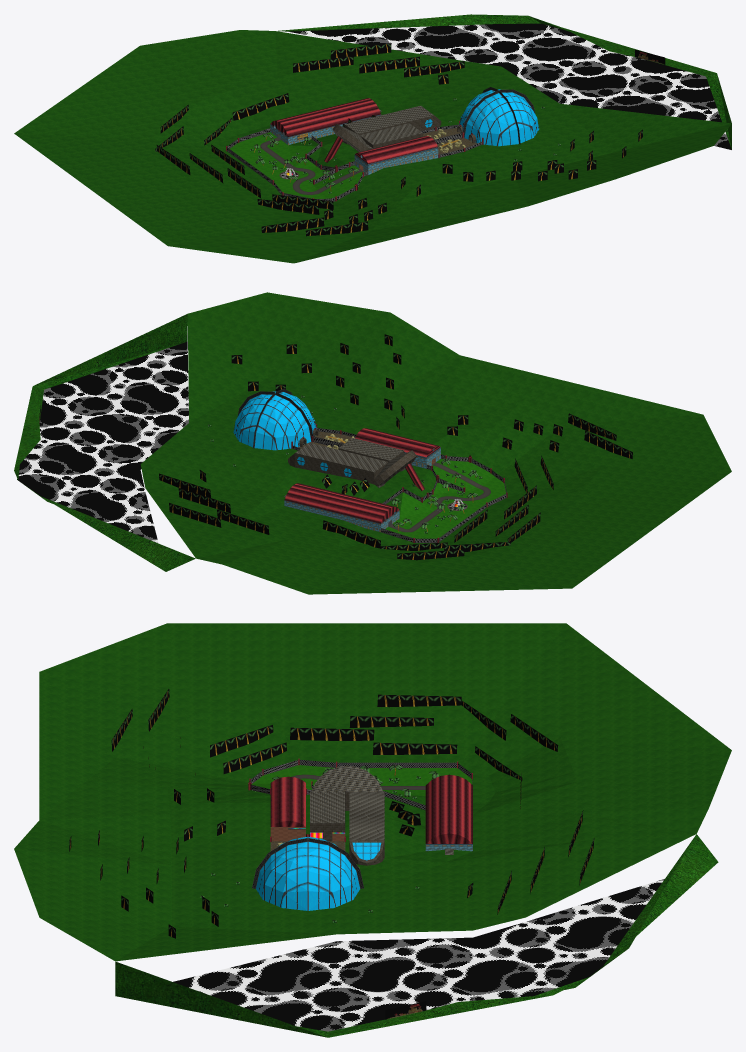
The picture shows the model from 3 angles, top to bottom: view 1: azimuth 30°, elevation 25°; view 2: azimuth 150°, elevation 25°; view 3: azimuth 270°, elevation 25°; orthographic projection. The views are drawn at different scales.
Parts seen in each view (by area): view 1: TrFa1_SKP__FF_grass, TrFa1_SKP__10_1_water, TrFa1_SKP__FF_palm2D, TrFa1_SKP__c_0_glass_NC, TrFa1_SKP__FF_metal_NC_M, TrFa1_SKP__3_4_grass, TrFa1_SKP__FF_cielingStone_NC, TrFa1_SKP__c_2_metalFence_NC, TrFa1_SKP__c_2_ironWall_NC, TrFa1_SKP__c_1_wallStone_NC, TrFa1_SKP__0_0_road, TrFa1_SKP__FF_support (+2 smaller); view 2: TrFa1_SKP__FF_grass, TrFa1_SKP__10_1_water, TrFa1_SKP__FF_palm2D, TrFa1_SKP__3_4_grass, TrFa1_SKP__c_0_glass_NC, TrFa1_SKP__FF_metal_NC_M, TrFa1_SKP__FF_cielingStone_NC, TrFa1_SKP__c_2_metalFence_NC, TrFa1_SKP__c_1_wallStone_NC, TrFa1_SKP__c_2_ironWall_NC, TrFa1_SKP__0_0_road, TrFa1_SKP__FF_palmeTop_NC_M (+1 smaller); view 3: TrFa1_SKP__FF_grass, TrFa1_SKP__10_1_water, TrFa1_SKP__FF_palm2D, TrFa1_SKP__c_0_glass_NC, TrFa1_SKP__FF_metal_NC_M, TrFa1_SKP__FF_cielingStone_NC, TrFa1_SKP__3_4_grass, TrFa1_SKP__c_2_metalFence_NC, TrFa1_SKP__c_1_wallStone_NC, TrFa1_SKP__FF_support.
Boxes of the visible parts, x1,y1,x2,y2 form: TrFa1_SKP__FF_grass: (14, 14, 731, 263); TrFa1_SKP__10_1_water: (281, 23, 731, 178); TrFa1_SKP__FF_palm2D: (155, 43, 642, 236); TrFa1_SKP__c_0_glass_NC: (424, 89, 539, 146); TrFa1_SKP__FF_metal_NC_M: (270, 98, 472, 185); TrFa1_SKP__3_4_grass: (230, 132, 363, 198); TrFa1_SKP__FF_cielingStone_NC: (337, 105, 433, 148); TrFa1_SKP__c_2_metalFence_NC: (227, 124, 482, 201); TrFa1_SKP__c_2_ironWall_NC: (270, 114, 438, 174); TrFa1_SKP__c_1_wallStone_NC: (332, 115, 441, 151); TrFa1_SKP__0_0_road: (260, 137, 362, 194); TrFa1_SKP__FF_support: (462, 87, 535, 144); TrFa1_SKP__FF_grass: (14, 292, 731, 594); TrFa1_SKP__10_1_water: (18, 341, 465, 543); TrFa1_SKP__FF_palm2D: (159, 334, 632, 560); TrFa1_SKP__3_4_grass: (385, 458, 505, 538); TrFa1_SKP__c_0_glass_NC: (233, 391, 351, 476); TrFa1_SKP__FF_metal_NC_M: (284, 428, 470, 523); TrFa1_SKP__FF_cielingStone_NC: (284, 438, 411, 497); TrFa1_SKP__c_2_metalFence_NC: (292, 428, 506, 542); TrFa1_SKP__c_1_wallStone_NC: (288, 448, 416, 486); TrFa1_SKP__c_2_ironWall_NC: (284, 447, 440, 532); TrFa1_SKP__0_0_road: (389, 462, 490, 532); TrFa1_SKP__FF_palmeTop_NC_M: (391, 458, 478, 528); TrFa1_SKP__FF_grass: (14, 623, 731, 1037); TrFa1_SKP__10_1_water: (173, 879, 664, 1031); TrFa1_SKP__FF_palm2D: (69, 689, 594, 938); TrFa1_SKP__c_0_glass_NC: (256, 836, 381, 910); TrFa1_SKP__FF_metal_NC_M: (248, 774, 472, 843); TrFa1_SKP__FF_cielingStone_NC: (310, 765, 453, 854); TrFa1_SKP__3_4_grass: (251, 765, 472, 795); TrFa1_SKP__c_2_metalFence_NC: (250, 759, 472, 809); TrFa1_SKP__c_1_wallStone_NC: (310, 791, 384, 865); TrFa1_SKP__FF_support: (252, 838, 363, 888).
Bounding box in the file's own units: 349955 × 28625 × 274609.
Materials: 43 (43 with a texture image).
